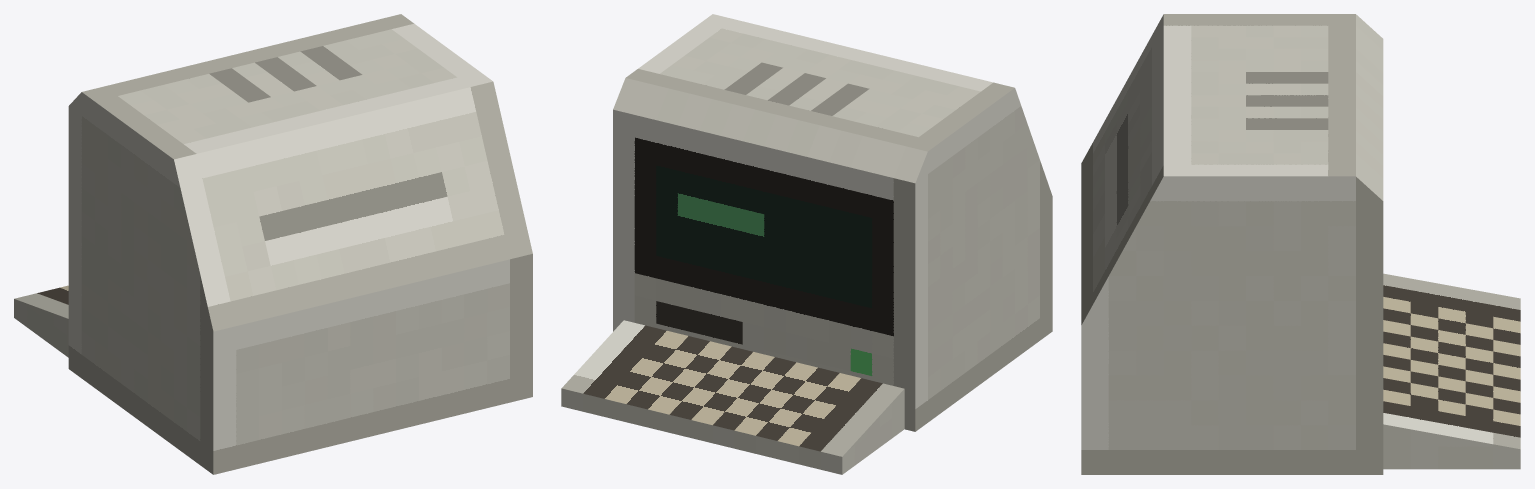
File: era4_vt_terminal_double_sided.obj
3 renders of one model, left to right at view 1: azimuth 30°, elevation 25°; view 2: azimuth 150°, elevation 25°; view 3: azimuth 270°, elevation 25°, orthographic. The views are drawn at different scales.
Parts seen in each view (by area): view 1: era4_vt_terminal; view 2: era4_vt_terminal; view 3: era4_vt_terminal.
Part boxes in pixels (x1,y1,x2,y2): era4_vt_terminal: (14, 14, 532, 474); era4_vt_terminal: (561, 14, 1052, 474); era4_vt_terminal: (1081, 14, 1520, 474).
Bounding box in the file's own units: 0.875 × 0.75 × 1.
